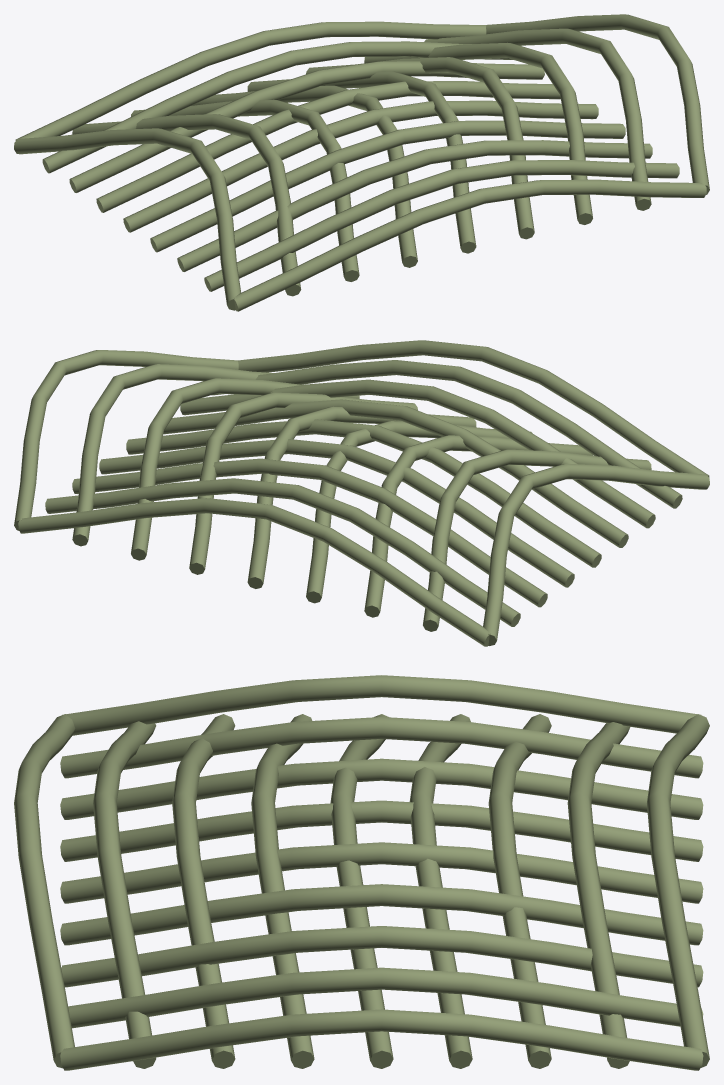
The model's file is scavengers-loot-library-netting-bundle-ea26a8fb__2673.glb.
3 renders of one model, top to bottom at view 1: azimuth 30°, elevation 25°; view 2: azimuth 150°, elevation 25°; view 3: azimuth 270°, elevation 25°, orthographic. The views are drawn at different scales.
Parts seen in each view (by area): view 1: netting-bundle; view 2: netting-bundle; view 3: netting-bundle.
Part boxes in pixels (left/top/right/bottom): netting-bundle: left=14, top=14, right=709, bottom=311; netting-bundle: left=14, top=340, right=709, bottom=646; netting-bundle: left=14, top=675, right=709, bottom=1070.
Bounding box in the file's own units: 0.2358 × 0.0309 × 0.176.
